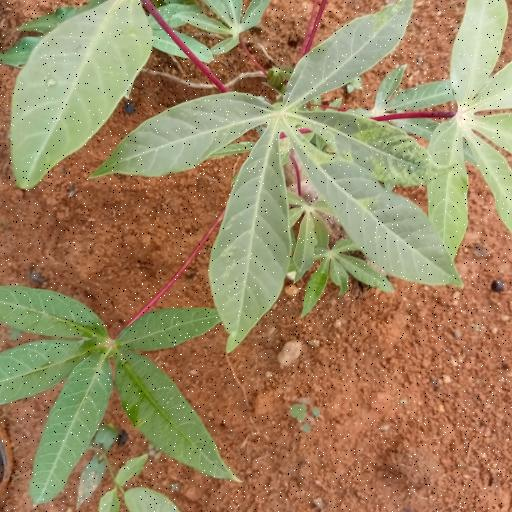Cassava_Mosaic: (128, 2, 432, 318)
